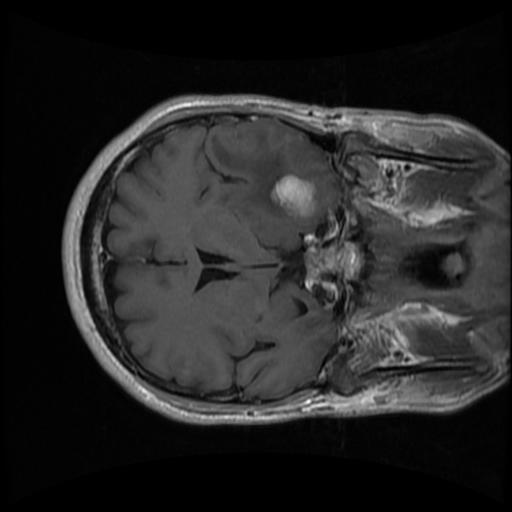meningioma: (267, 173, 315, 222)
